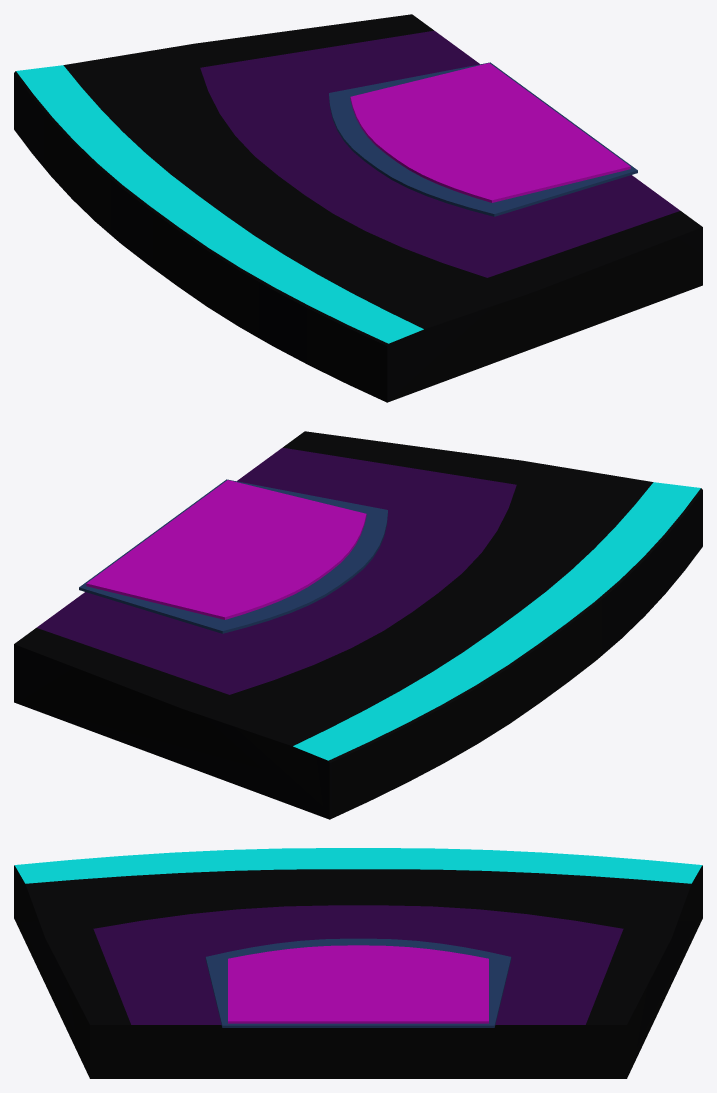
Rendered from stage_2.fbx.
3 views of the same model, one above another, from view 1: azimuth 30°, elevation 25°; view 2: azimuth 150°, elevation 25°; view 3: azimuth 270°, elevation 25° (orthographic). The views are drawn at different scales.
Visible parts, largest first — view 1: stage_geo, step_top, step_bot; view 2: stage_geo, step_top, step_bot; view 3: stage_geo, step_top, step_bot.
Boxes of the visible parts, x1,y1,x2,y2 form: stage_geo: [14, 14, 702, 402]; step_top: [350, 63, 630, 202]; step_bot: [329, 62, 637, 216]; stage_geo: [14, 431, 702, 819]; step_top: [86, 480, 366, 619]; step_bot: [79, 479, 387, 633]; stage_geo: [14, 848, 702, 1078]; step_top: [228, 945, 488, 1023]; step_bot: [205, 938, 511, 1027].
Size of the model in its own units: 1493 by 227 by 2404.
